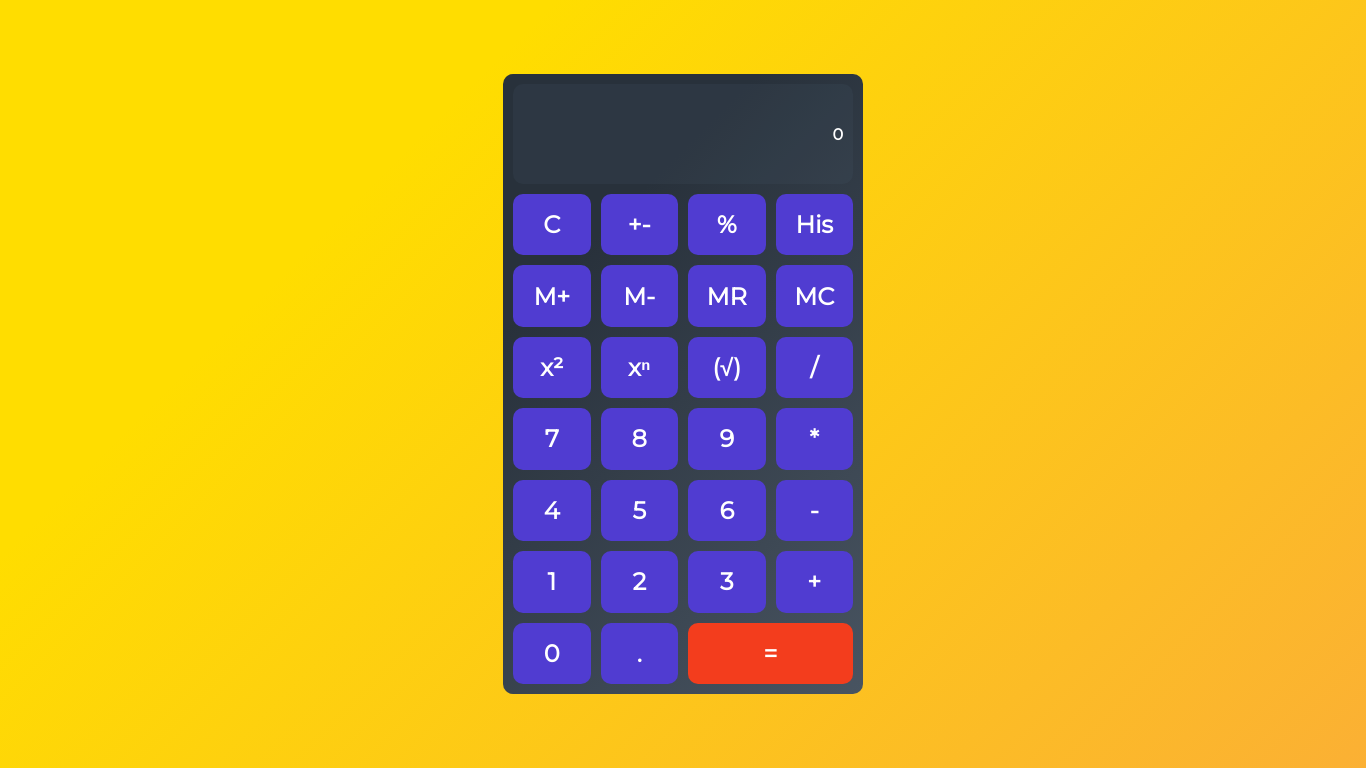
Calculator › should be able to do square roots
The image size is (1366, 768).
Click the button "5": (639, 510) [600,480,678,541]
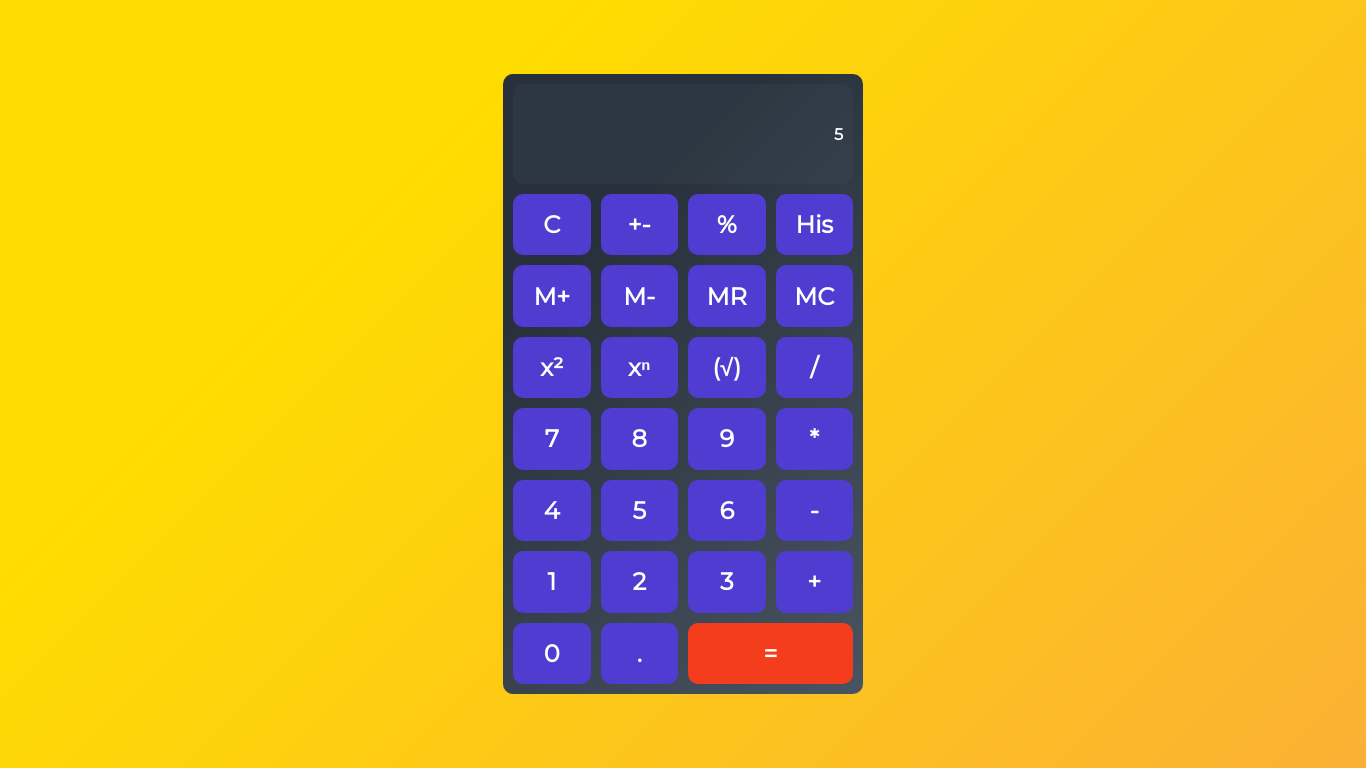
Click the button "(√)": (727, 368) [688,337,766,398]
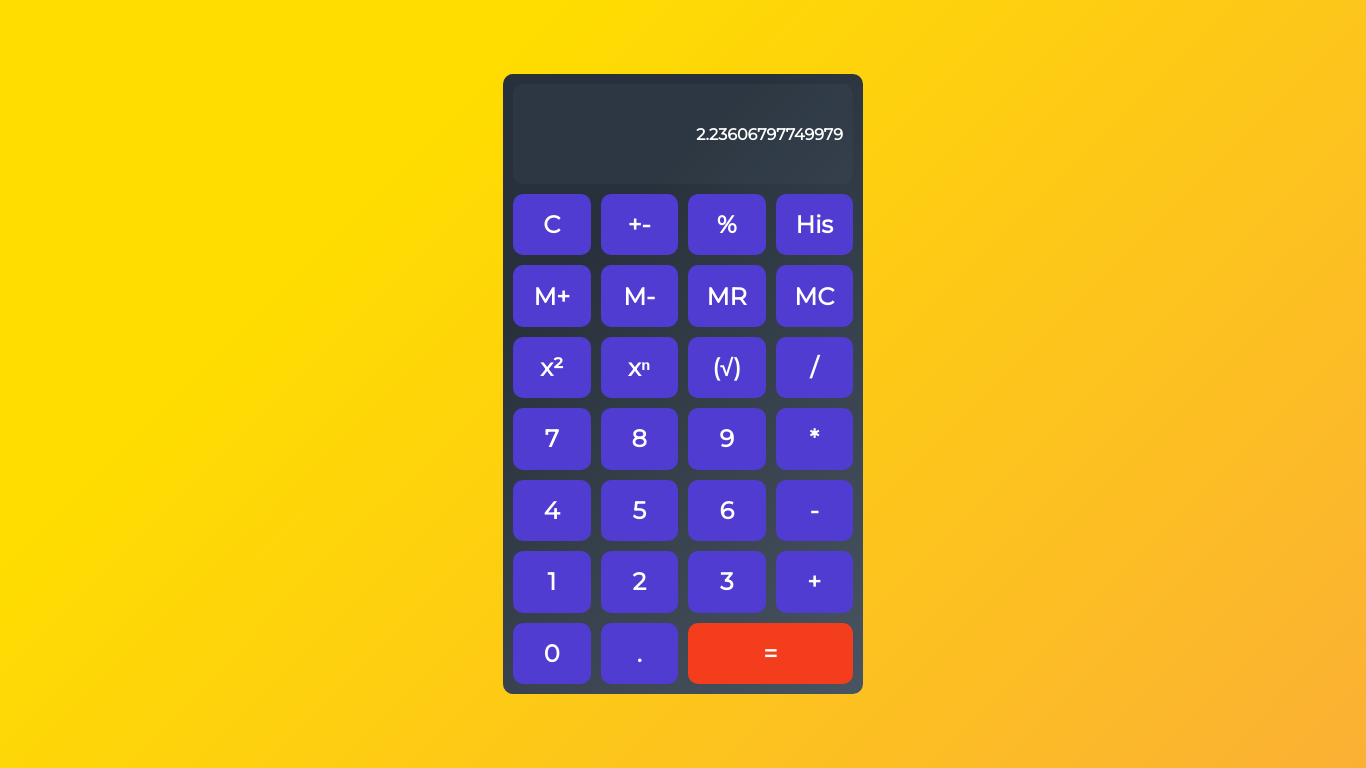
Result: the text with test id "screen" reads "2.23606797749979" at [696,124,843,144]
